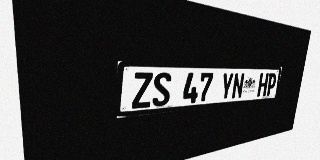4: (182, 73, 200, 104)
7: (197, 73, 214, 103)
H: (257, 73, 269, 97)
N: (231, 73, 245, 99)
P: (266, 73, 277, 96)
S: (152, 72, 172, 107)
Y: (219, 73, 234, 100)
Z: (132, 72, 153, 109)
